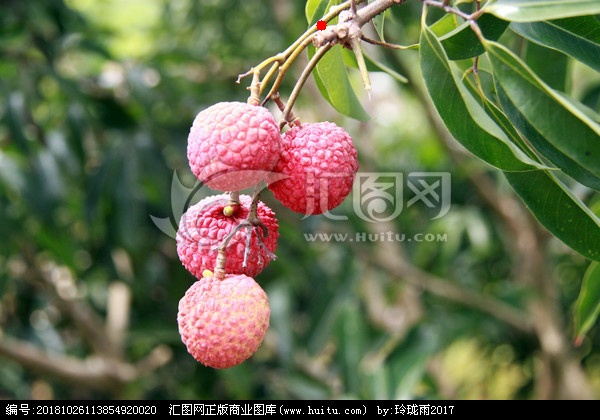litchi: (184, 107, 349, 362)
stem: (311, 0, 401, 51)
